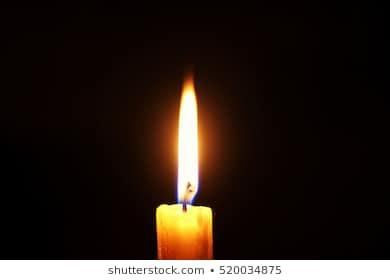fire: (173, 73, 201, 206)
